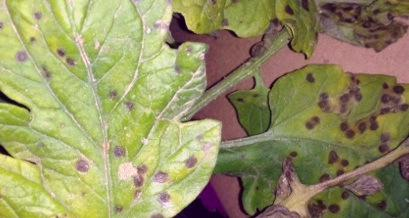Tomato Septoria leaf spot: (0, 0, 224, 218), (231, 61, 409, 218), (316, 0, 409, 68)
